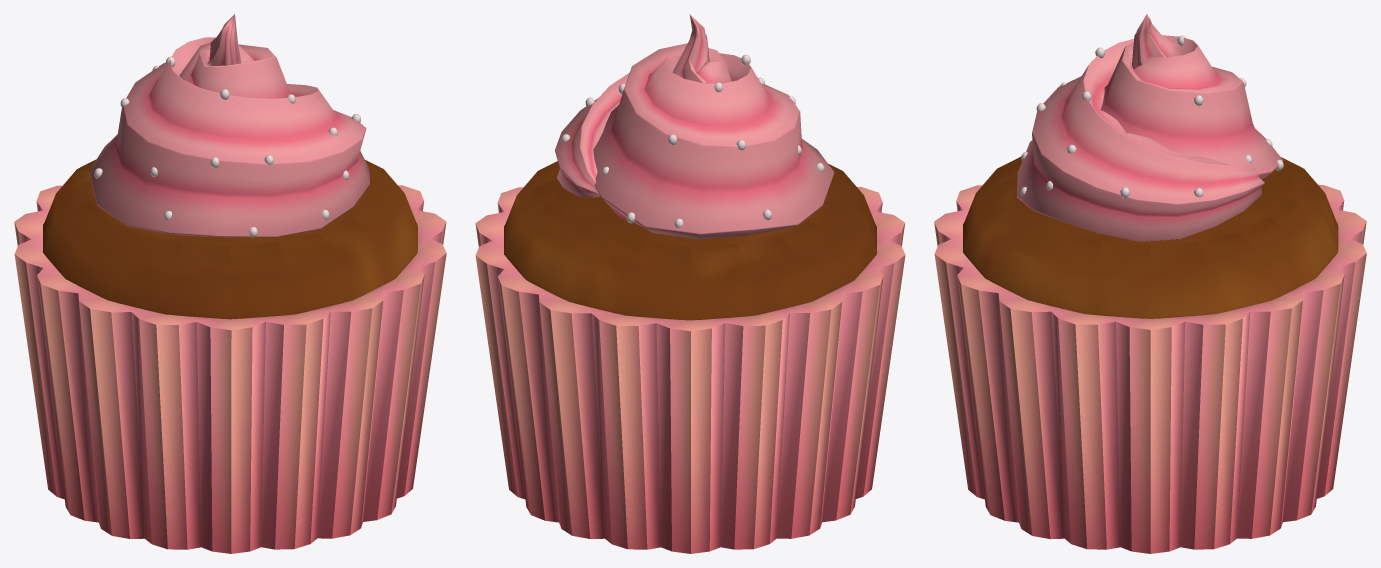
The model's file is Doll_OB_Cake_008.fbx.
3 views of the same model, side by side, from view 1: azimuth 30°, elevation 25°; view 2: azimuth 150°, elevation 25°; view 3: azimuth 270°, elevation 25° (orthographic).
Visible parts, largest first — view 1: Doll_OB_Cake_008; view 2: Doll_OB_Cake_008; view 3: Doll_OB_Cake_008.
Boxes of the visible parts, left/top/right/bottom form: Doll_OB_Cake_008: left=14, top=14, right=446, bottom=553; Doll_OB_Cake_008: left=475, top=14, right=905, bottom=553; Doll_OB_Cake_008: left=934, top=14, right=1366, bottom=553.
Bounding box in the file's own units: 1 × 1.16 × 0.9854.
1 material, 1 textured.
